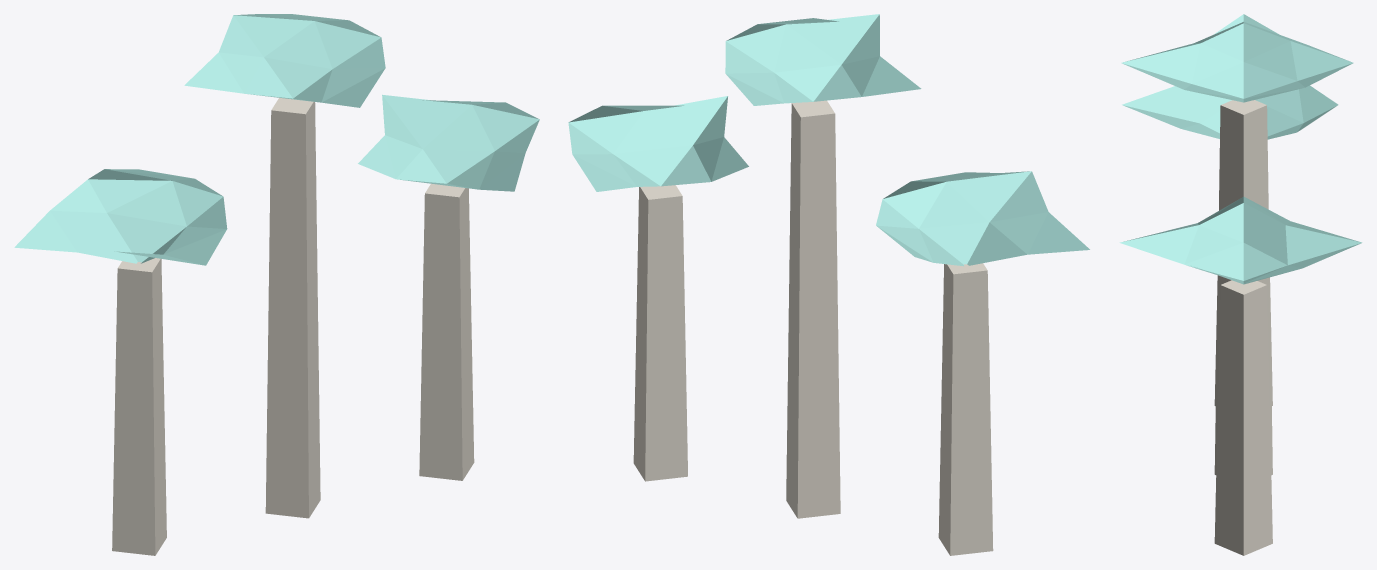
The model's file is glowcap_v31.glb.
3 renders of one model, left to right at view 1: azimuth 30°, elevation 25°; view 2: azimuth 150°, elevation 25°; view 3: azimuth 270°, elevation 25°, orthographic. The views are drawn at different scales.
Visible parts, largest first — view 1: lod0; view 2: lod0; view 3: lod0.
Part boxes in pixels (bbox=[...]): lod0: bbox=[14, 14, 539, 555]; lod0: bbox=[568, 14, 1089, 555]; lod0: bbox=[1119, 14, 1362, 555].
Size of what is drawn, in the model's own units: 0.4792 by 0.4291 by 0.2091.
